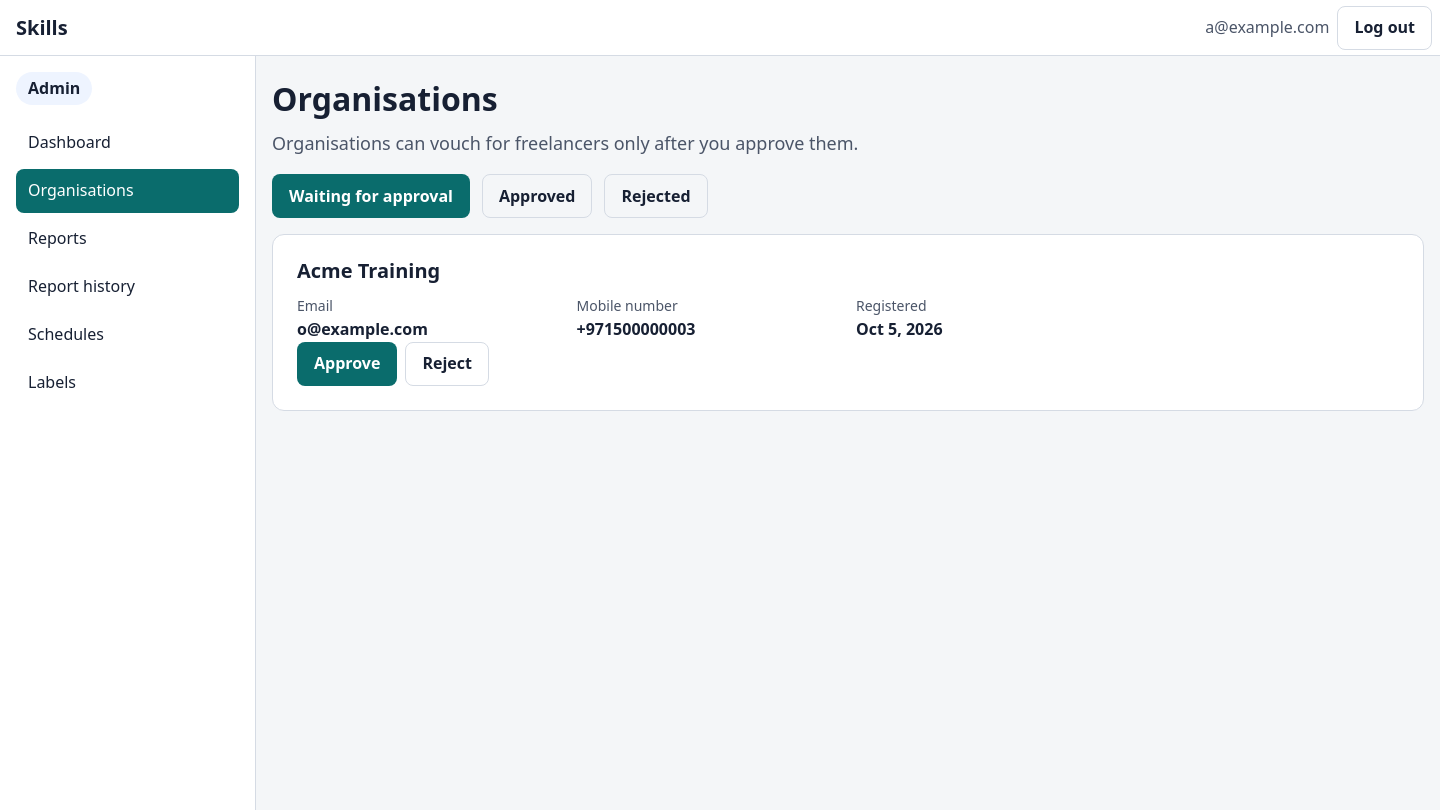
Test case: organisation approvals › approves a waiting organisation and refreshes the list
Expected: the heading "Acme Training" is shown, [297,257,440,284]
Expected: the text "o@example.com" is shown, [297,318,428,340]
Click the button with aria-label "Approve: Acme Training" at coordinates (347, 364), box [297,342,397,386]
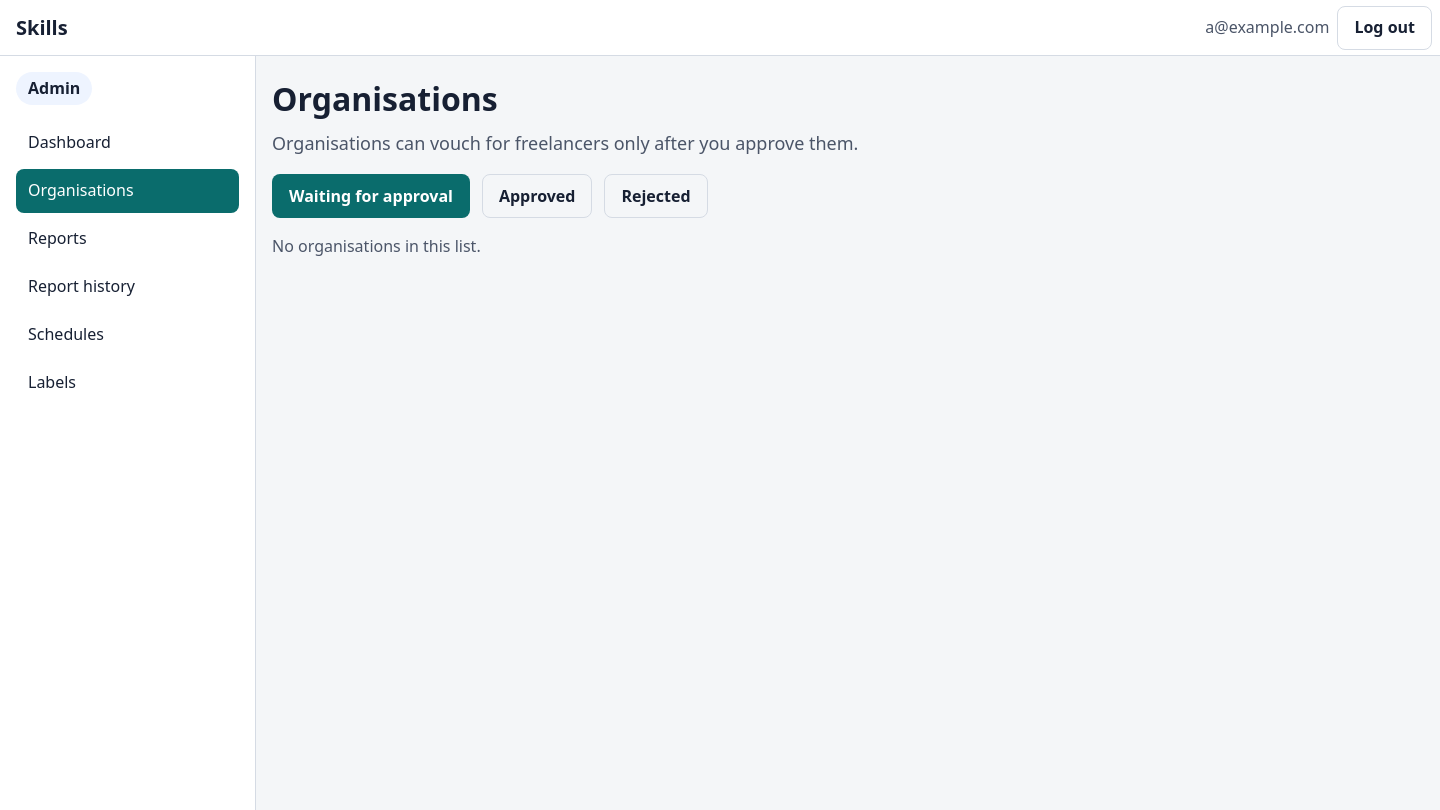
Expected: the text "No organisations in this list." is shown, [272,235,481,257]
